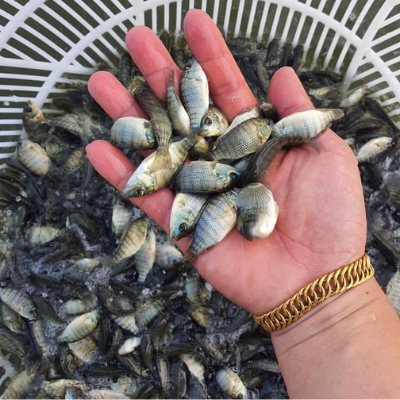fish: (180, 197, 237, 253), (118, 161, 166, 204), (133, 84, 166, 139), (273, 109, 340, 135), (237, 201, 281, 240), (164, 194, 203, 236), (106, 116, 163, 144), (221, 121, 275, 150), (181, 162, 244, 186), (182, 58, 208, 116), (161, 89, 192, 135), (250, 149, 276, 179), (200, 103, 223, 136)
